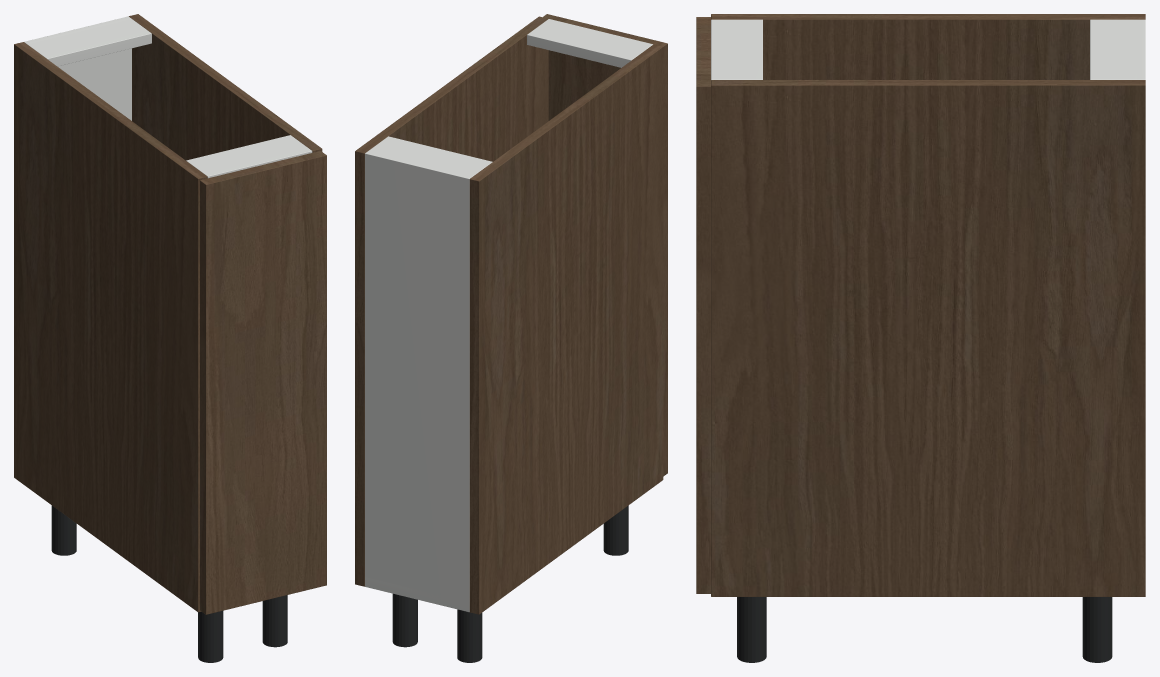
File: oppein-pb-mso-bsr09.glb
3 renders of one model, left to right at view 1: azimuth 30°, elevation 25°; view 2: azimuth 150°, elevation 25°; view 3: azimuth 270°, elevation 25°, orthographic. The views are drawn at different scales.
Visible parts, largest first — view 1: Cabinet side, Door, Cabinet side.001, Cabinet back, Top support rail, Top support rail.001, Adjustable foot.001, Adjustable foot.003, Adjustable foot; view 2: Cabinet side, Cabinet back, Cabinet side.001, Door, Top support rail.001, Top support rail, Adjustable foot, Adjustable foot.002, Adjustable foot.001, Cabinet bottom; view 3: Cabinet side.001, Cabinet side, Door, Top support rail.001, Top support rail, Adjustable foot.002, Adjustable foot.003.
Boxes of the visible parts, left/top/right/bottom form: Cabinet side: left=14, top=42, right=207, bottom=612; Door: left=200, top=151, right=326, bottom=614; Cabinet side.001: left=129, top=14, right=322, bottom=160; Cabinet back: left=24, top=16, right=131, bottom=120; Top support rail: left=26, top=19, right=151, bottom=66; Top support rail.001: left=186, top=135, right=312, bottom=178; Adjustable foot.001: left=198, top=611, right=223, bottom=662; Adjustable foot.003: left=262, top=595, right=287, bottom=647; Adjustable foot: left=51, top=505, right=76, bottom=555; Cabinet side: left=469, top=44, right=663, bottom=614; Cabinet back: left=365, top=151, right=472, bottom=612; Cabinet side.001: left=355, top=16, right=548, bottom=586; Door: left=543, top=14, right=667, bottom=476; Top support rail.001: left=527, top=19, right=652, bottom=67; Top support rail: left=369, top=136, right=492, bottom=176; Adjustable foot: left=457, top=609, right=482, bottom=662; Adjustable foot.002: left=392, top=593, right=417, bottom=647; Adjustable foot.001: left=603, top=505, right=628, bottom=555; Cabinet bottom: left=365, top=577, right=466, bottom=611; Cabinet side.001: left=711, top=80, right=1145, bottom=596; Cabinet side: left=711, top=14, right=1145, bottom=79; Door: left=696, top=17, right=710, bottom=593; Top support rail.001: left=711, top=19, right=762, bottom=79; Top support rail: left=1090, top=19, right=1141, bottom=79; Adjustable foot.002: left=1082, top=597, right=1112, bottom=662; Adjustable foot.003: left=737, top=597, right=766, bottom=662.
Size of the model in its own units: 0.2286 by 0.8763 by 0.6064.
Materials: 3 (1 with a texture image).
